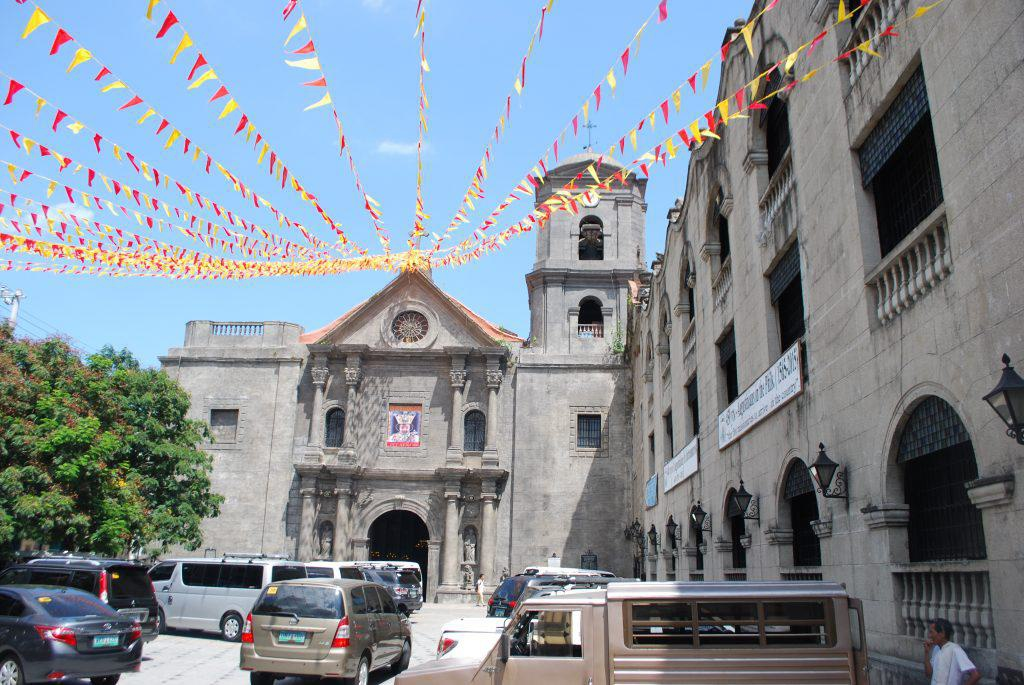san_agustin_church_intramuros_manila: (285, 103, 647, 599)
